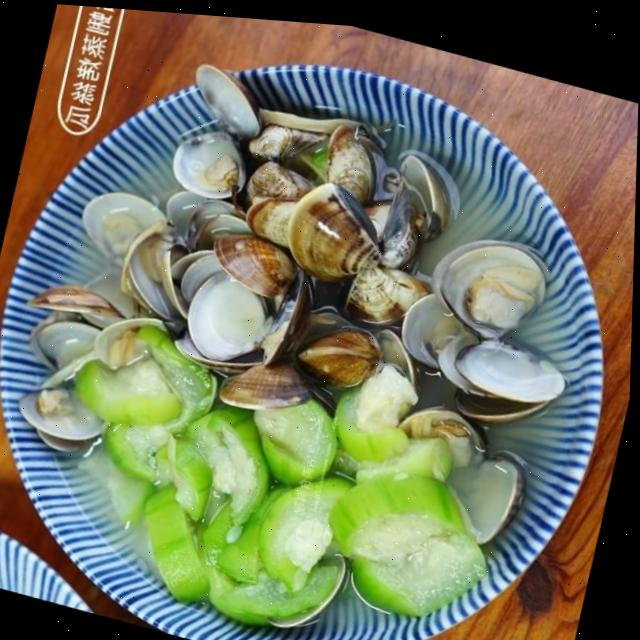Wet: (31, 5, 564, 603)
